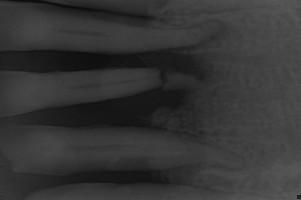Dental Caries: (137, 47, 213, 86), (152, 87, 199, 109)
Furcation Involvement: (176, 18, 232, 50)
